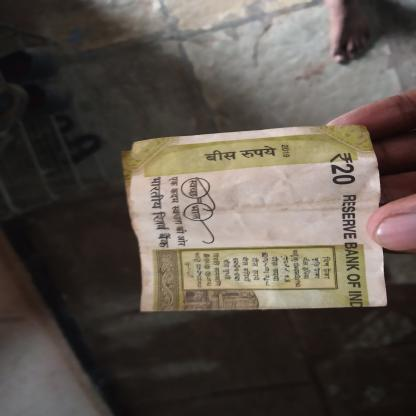New20Back: (127, 131, 386, 308)
